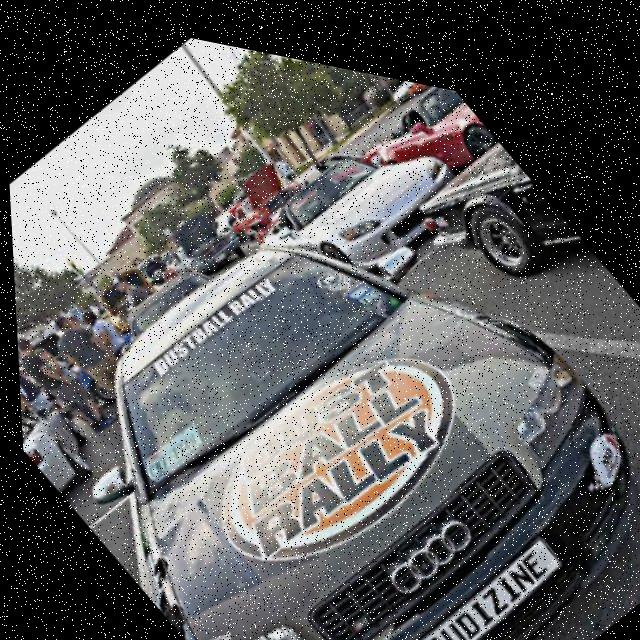license_plate: (375, 487, 572, 640), (210, 239, 228, 259)
